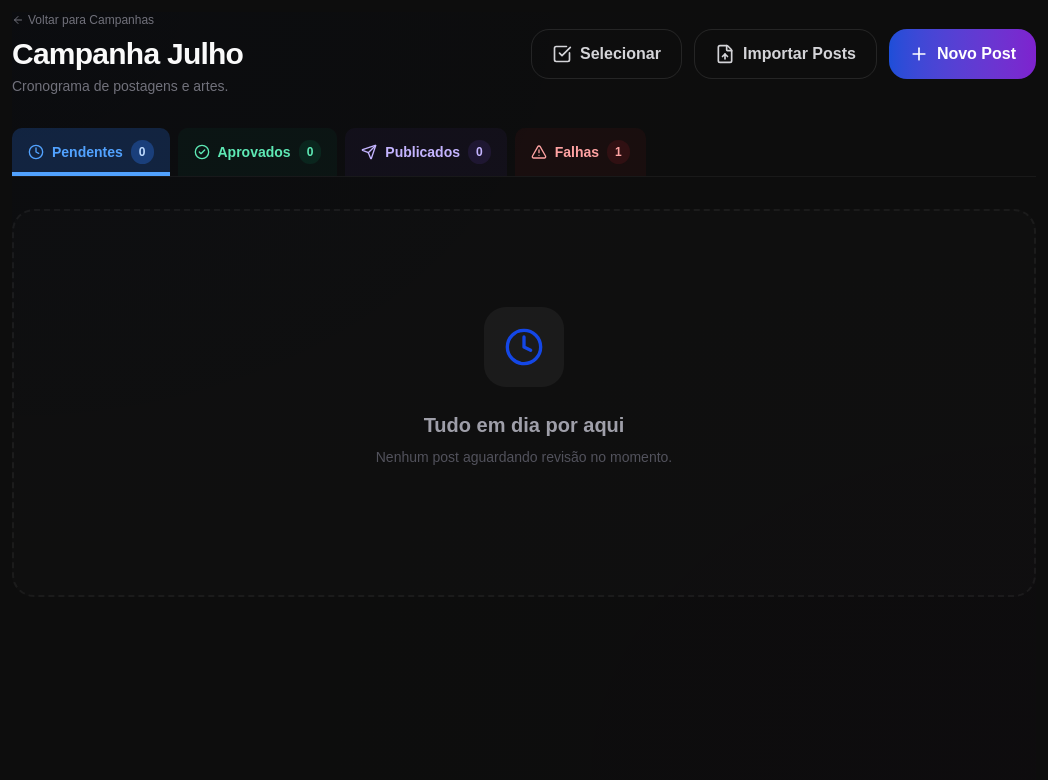
Test: PostsPage — resultado da publicação › falha na publicação › mostra o erro da Meta, que é o que diz o que corrigir
Step 1. Click the button "Falhas 1" → (580, 152), box [515,128,646,176]
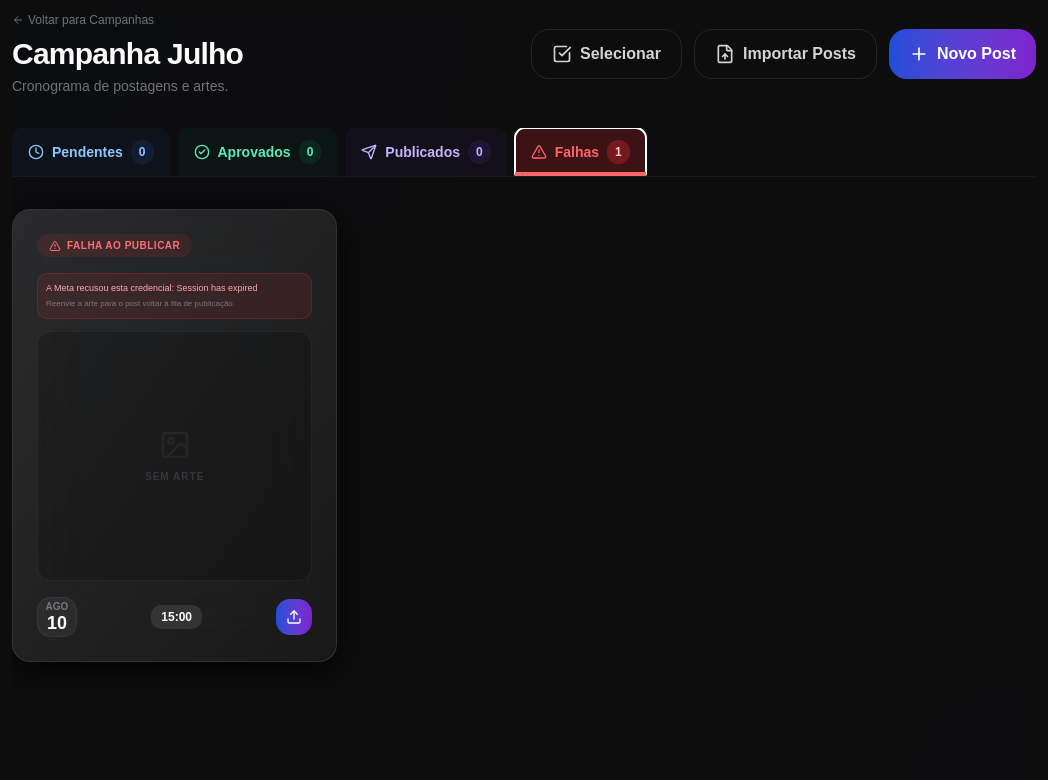
Result: the text "A Meta recusou esta credencial: Session has expired" is shown at [46,283,258,293]
